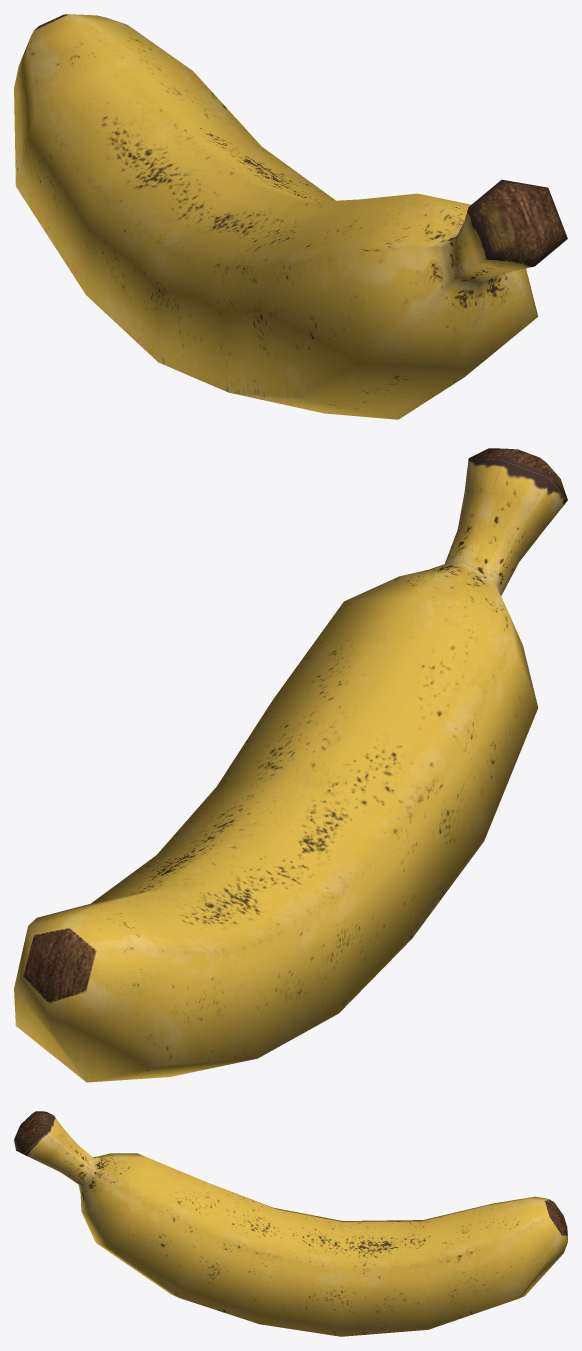
File: bananaObj.glb
3 views of the same model, one above another, from view 1: azimuth 30°, elevation 25°; view 2: azimuth 150°, elevation 25°; view 3: azimuth 270°, elevation 25° (orthographic). The views are drawn at different scales.
Parts seen in each view (by area): view 1: Banana; view 2: Banana; view 3: Banana.
Boxes of the visible parts, x1,y1,x2,y2 form: Banana: [14, 14, 567, 419]; Banana: [14, 448, 567, 1082]; Banana: [14, 1111, 567, 1336].
Bounding box in the file's own units: 2.19 × 4.33 × 9.86.
Materials: 1 (1 with a texture image).
